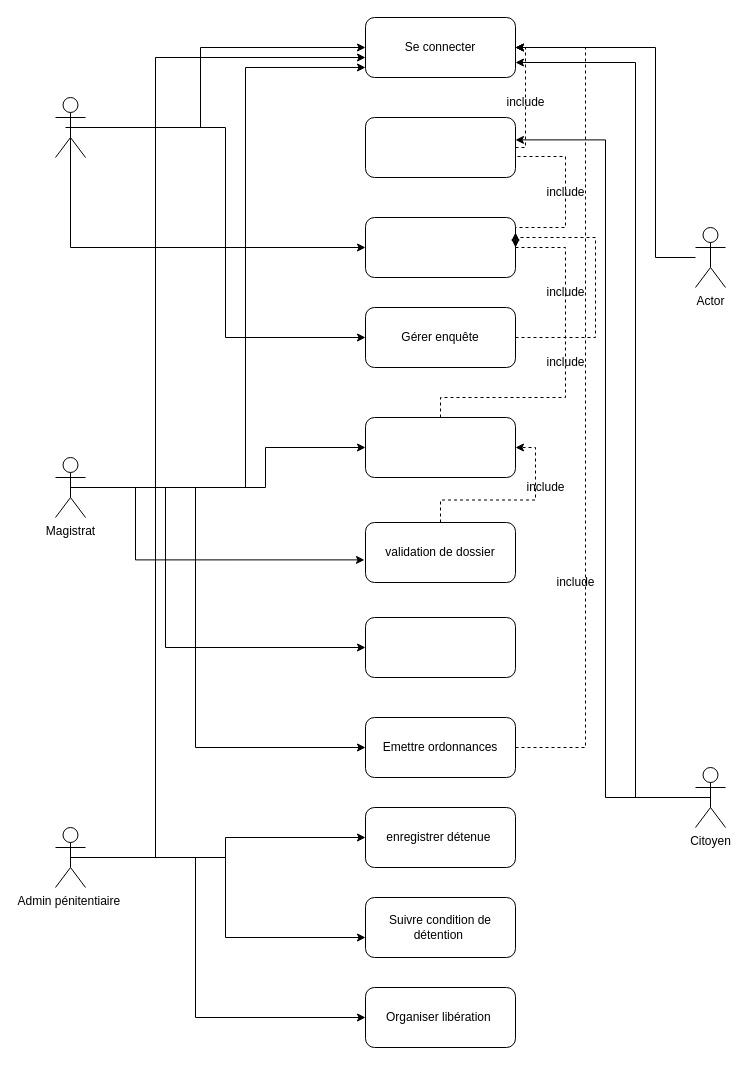
The diagram is 748 pixels wide and 1065 high, and some of its shapes have lost their labels. Each missing label, with the centre of its shape:
Déposer plainte: the point at 440,147
enregistrer plainte: the point at 440,247
Force de l'ordre: the point at 70,127
Gestion des audiences: the point at 440,647
Transmettre un dossier: the point at 440,447
